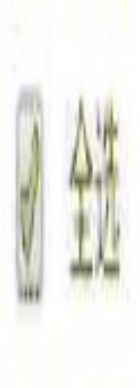CheckBox: (1, 1, 139, 387)
